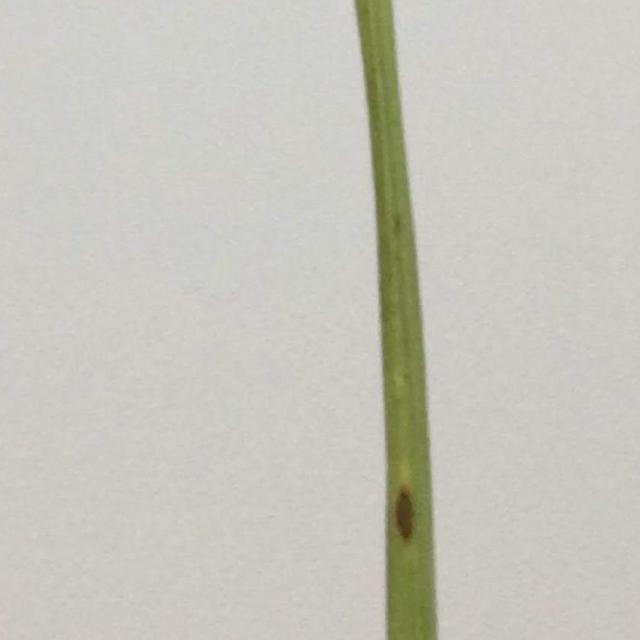Blast: (394, 488, 418, 546)
